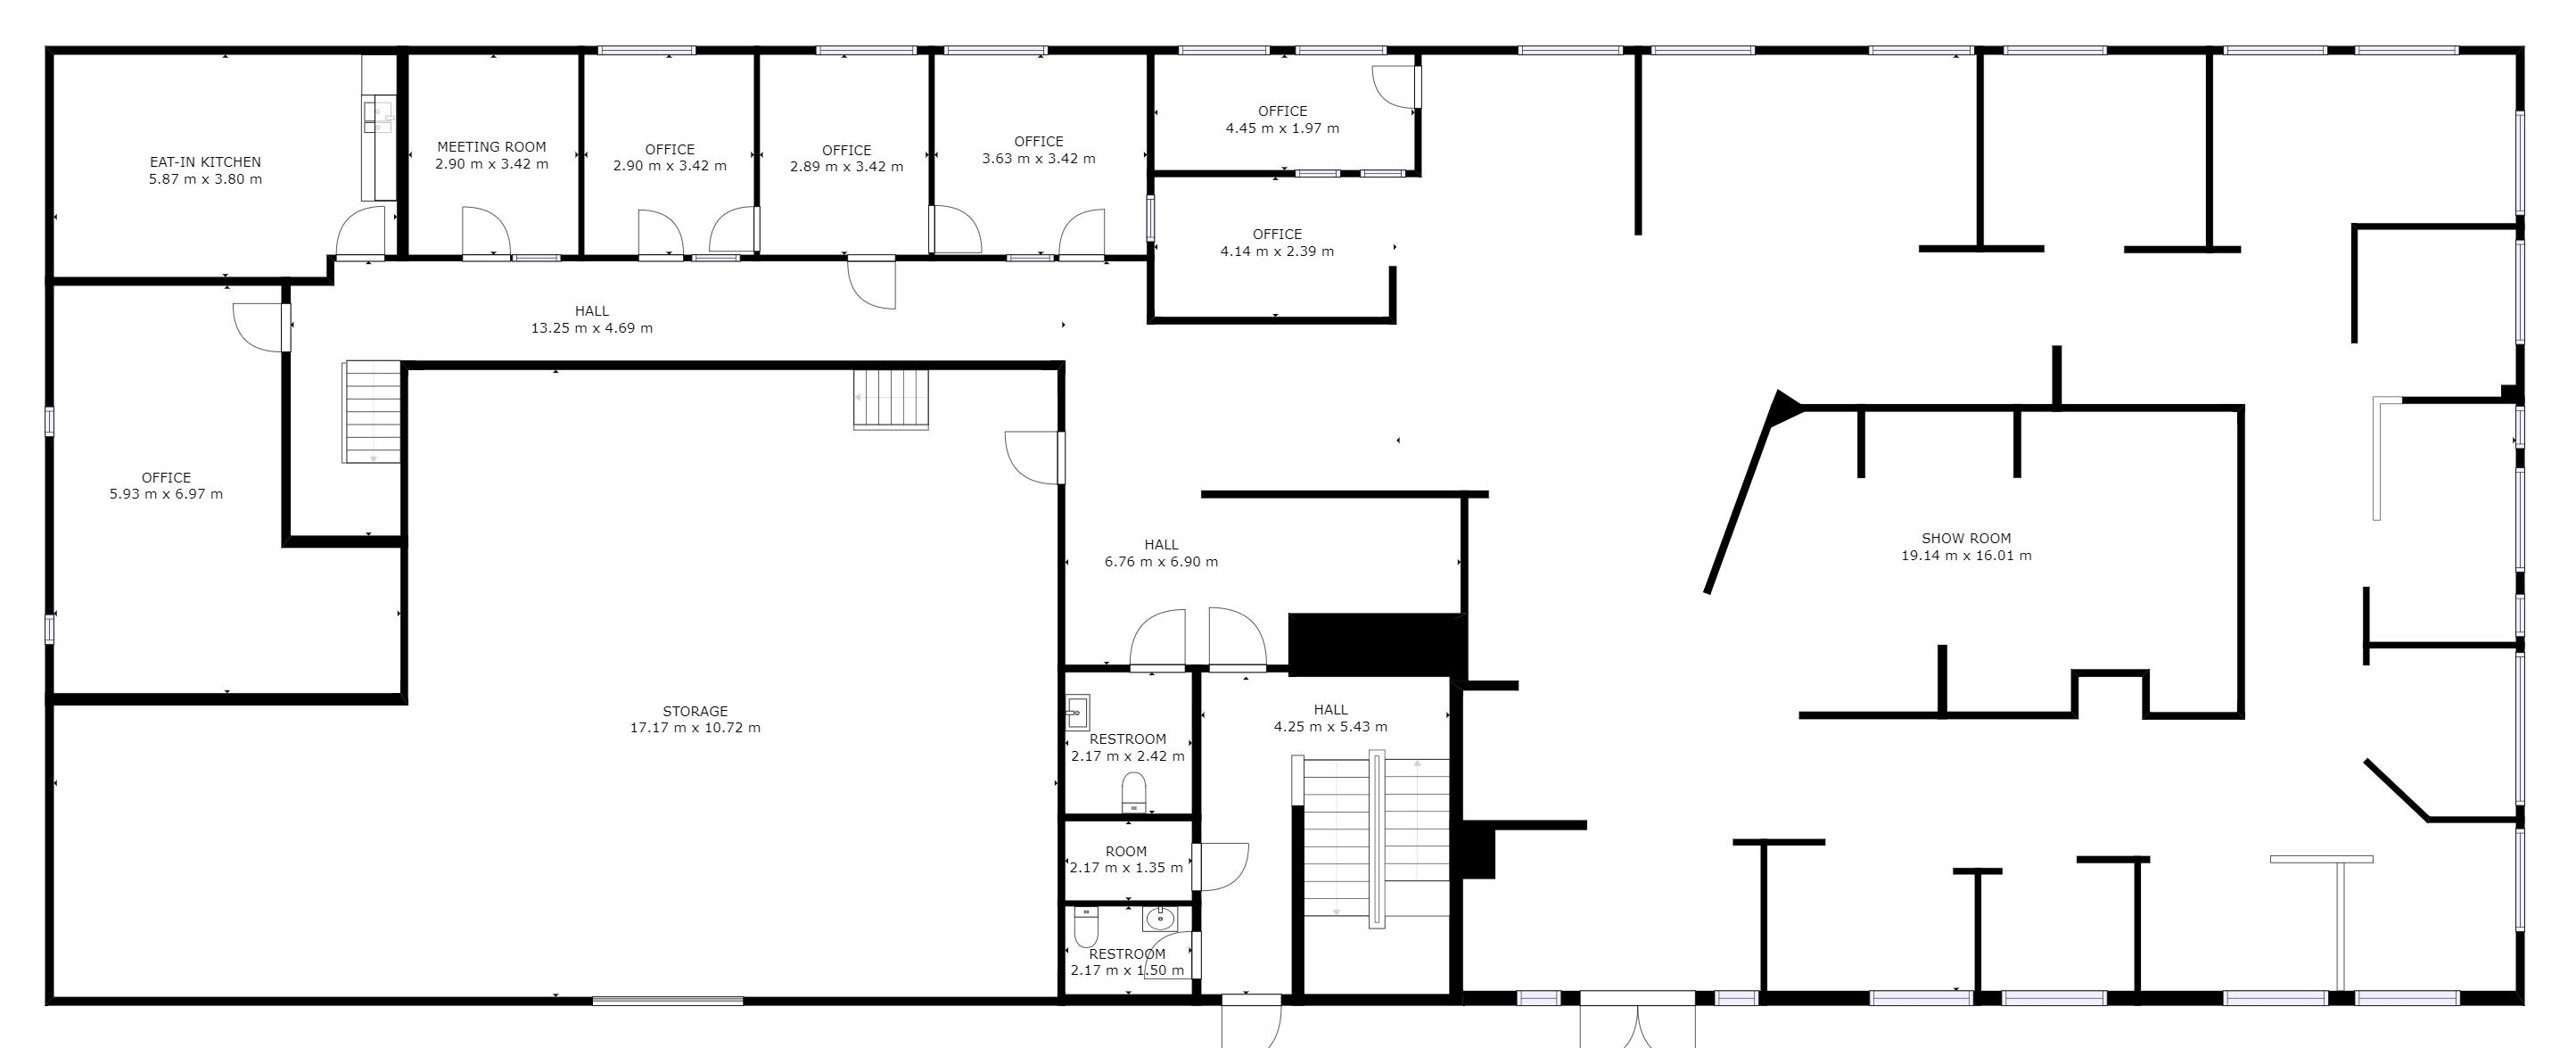room: (51, 286, 402, 700), (1196, 667, 1454, 997), (49, 49, 401, 279), (933, 49, 1150, 258), (1061, 669, 1198, 997), (402, 49, 583, 258), (582, 49, 757, 258), (757, 49, 932, 258), (1152, 176, 1393, 320), (1150, 49, 1418, 174)
